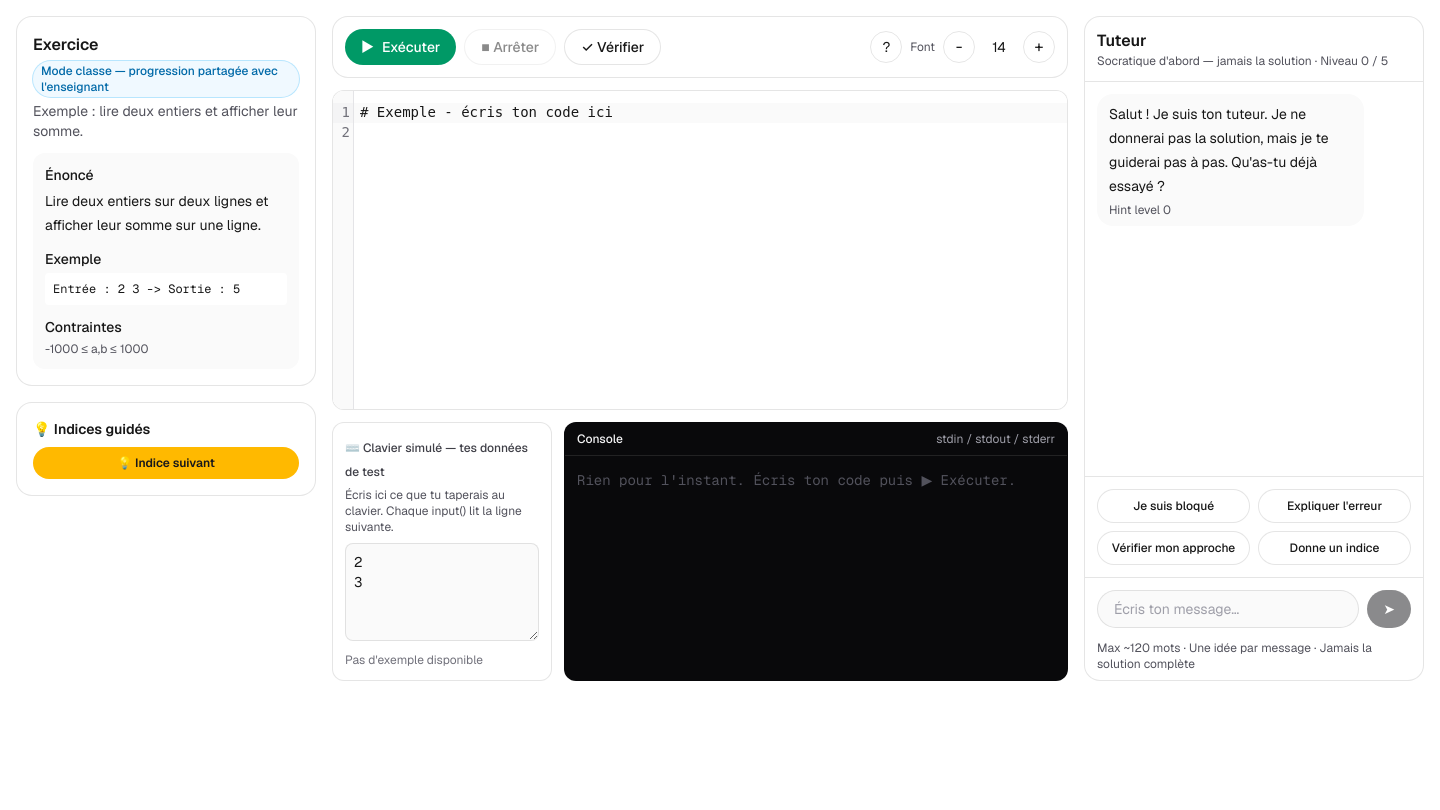
WorkspaceClient — IDE + runner › request-hint reveals next pair and inserts it as a comment
Click the button with test id "request-hint" at x=166, y=463, box top-left (33, 447), bottom-right (299, 479)
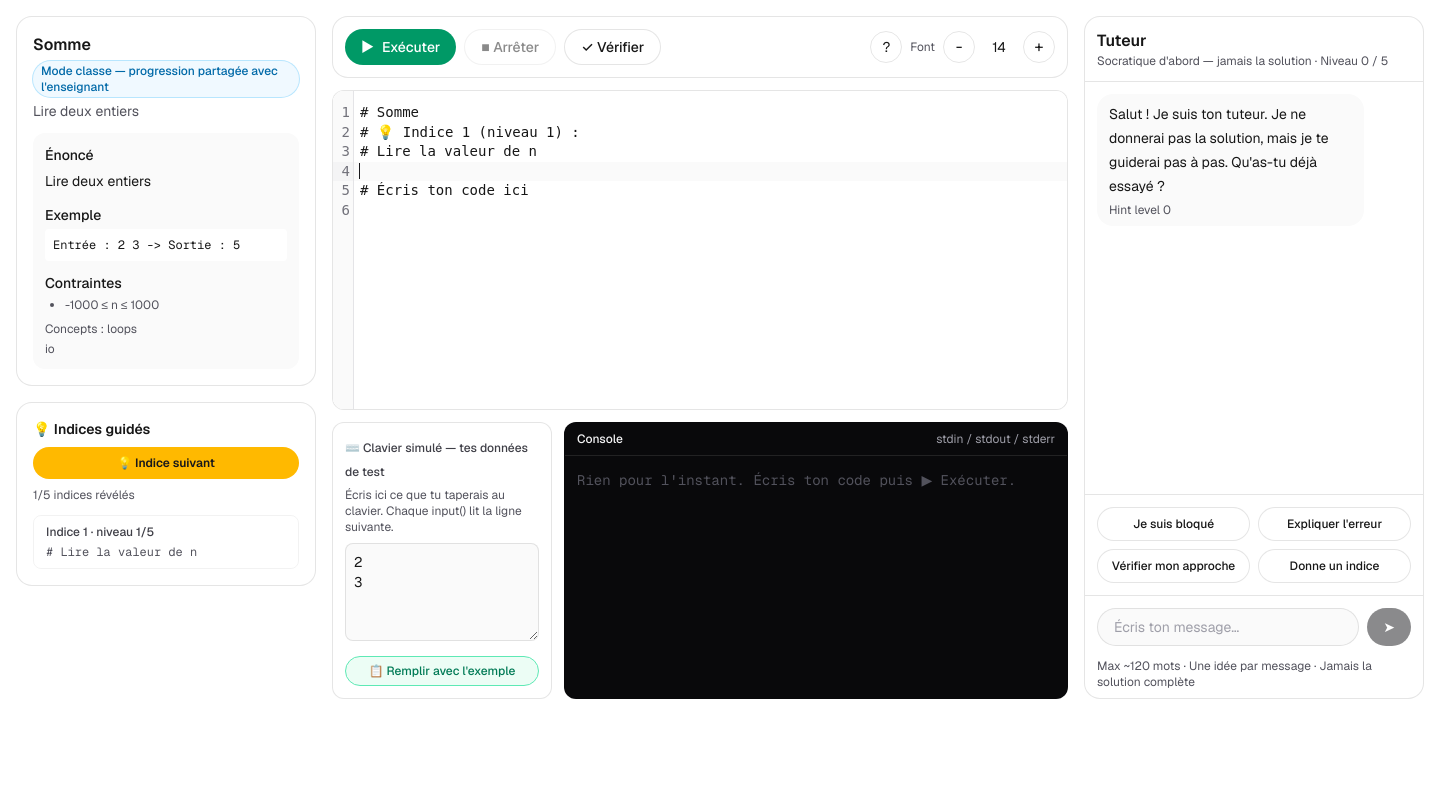
Expected: the text "# Lire la valeur de n" is shown, top-left (46, 544), bottom-right (197, 560)
Expected: the text "1/5" is shown, top-left (33, 487), bottom-right (135, 503)
